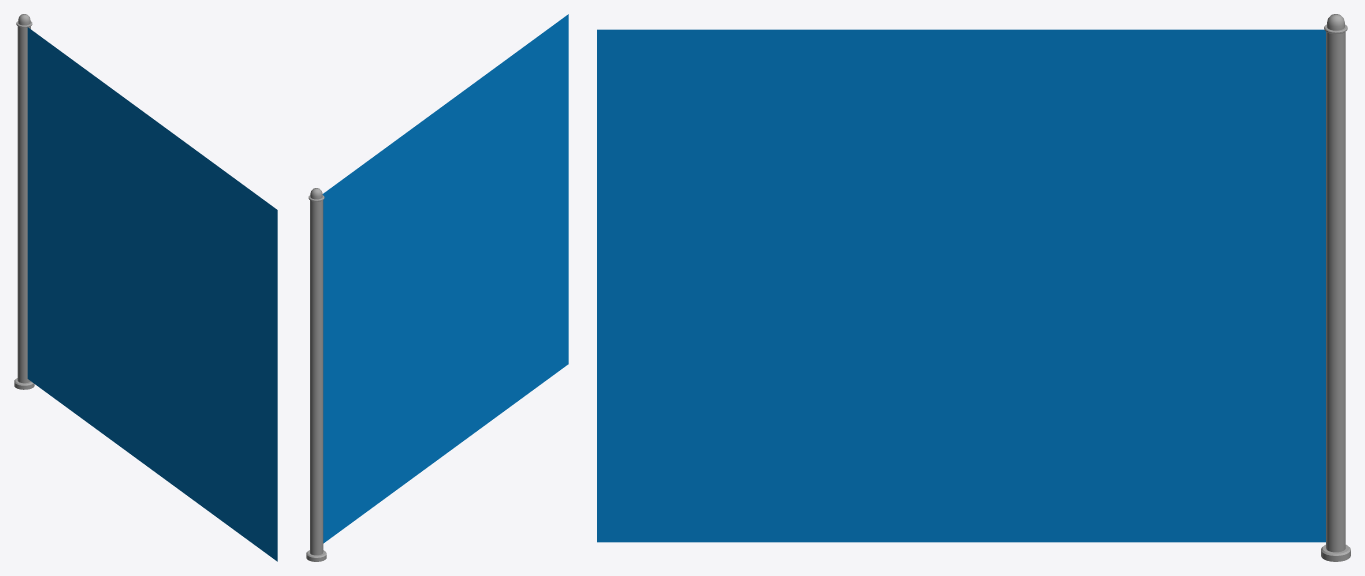
The model's file is single.fbx.
3 views of the same model, side by side, from view 1: azimuth 30°, elevation 25°; view 2: azimuth 150°, elevation 25°; view 3: azimuth 270°, elevation 25° (orthographic). The views are drawn at different scales.
Parts seen in each view (by area): view 1: pCylinder5; view 2: pCylinder5; view 3: pCylinder5.
Boxes of the visible parts, x1,y1,x2,y2 form: pCylinder5: (14, 14, 277, 561); pCylinder5: (306, 14, 568, 561); pCylinder5: (597, 14, 1350, 561).
Bounding box in the file's own units: 0.5686 × 11.3 × 14.28.
